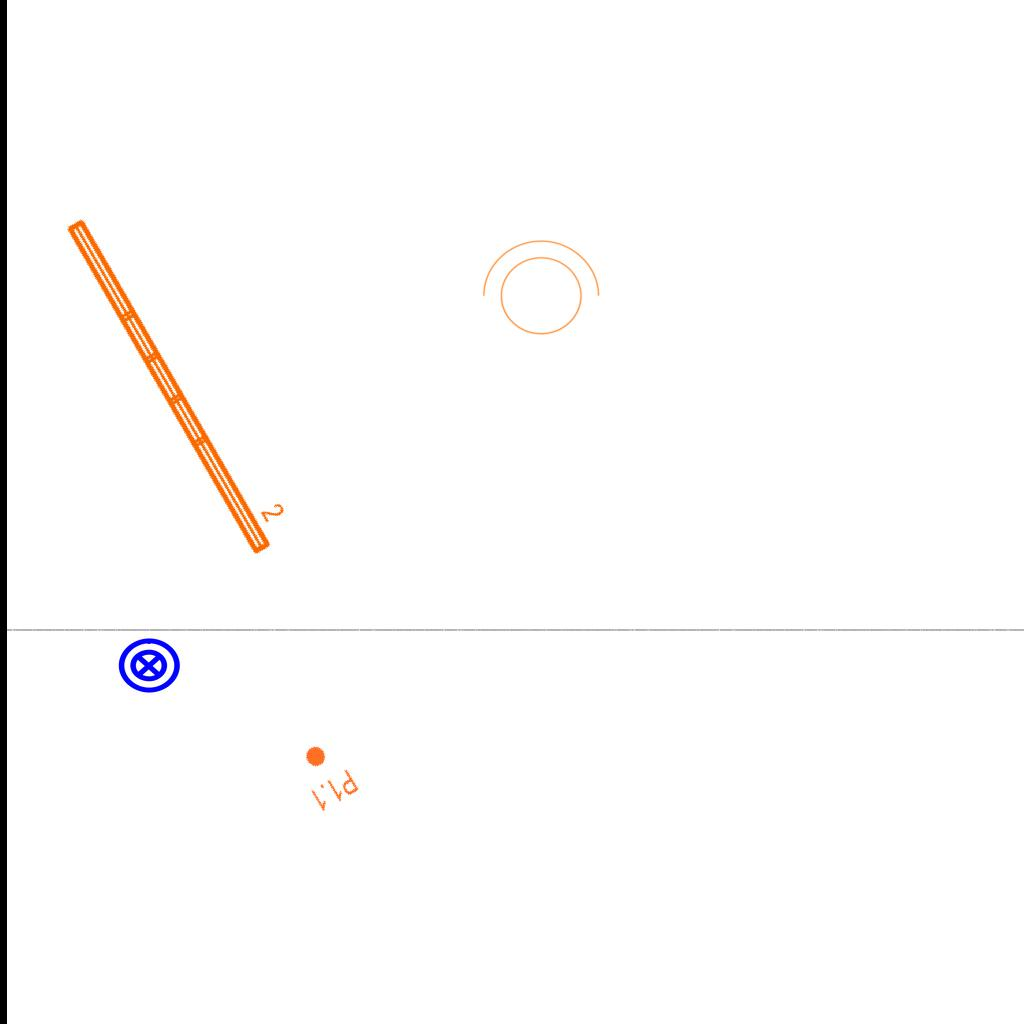Ambulanz_Pendelleuchte_LED: (58, 198, 301, 562)
Downlight_LED_Einbauleuchten_Flur: (288, 735, 362, 815)
Scheinwerfer_fuer_Alarmbeleuchtung: (472, 235, 604, 347)
Taster_beleuchtet: (116, 633, 182, 699)
